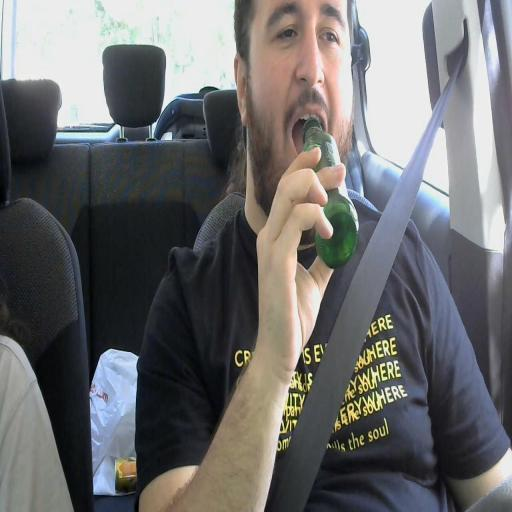Drinking: (234, 0, 359, 267)
